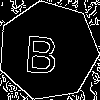B: (23, 26, 60, 74)
